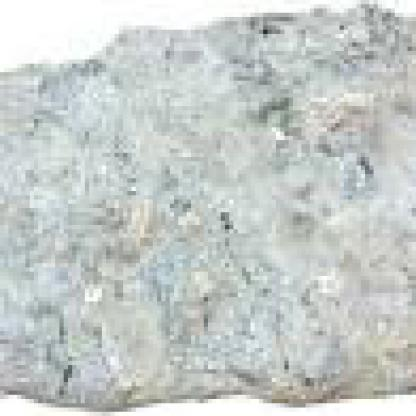Metamorphic_Marble: (0, 4, 412, 412)
